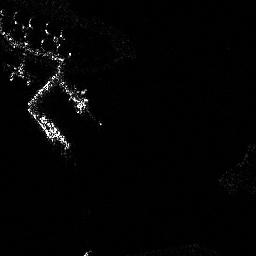ship: (40, 112, 70, 149)
